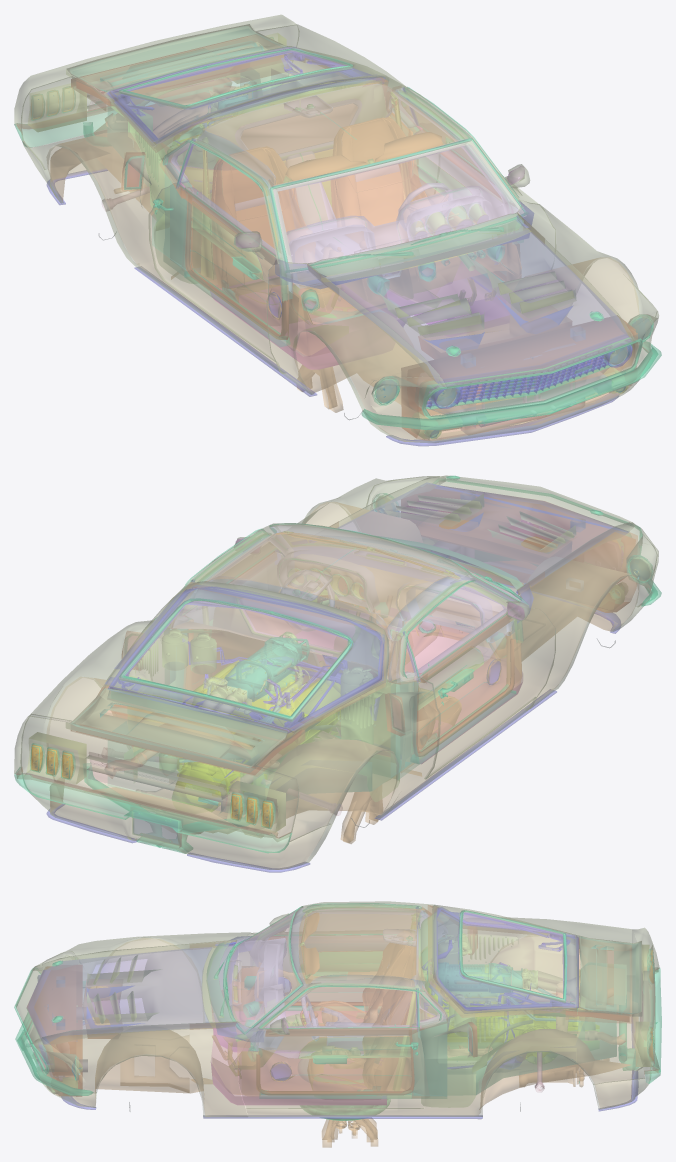
Rendered from ford_mustang_mach_40_rig.glb.
3 views of the same model, one above another, from view 1: azimuth 30°, elevation 25°; view 2: azimuth 150°, elevation 25°; view 3: azimuth 270°, elevation 25° (orthographic). The views are drawn at different scales.
Parts seen in each view (by area): view 1: Body_Mesh; view 2: Body_Mesh, Wheel_RL_Mesh; view 3: Body_Mesh, Wheel_FL_Mesh, Wheel_RL_Mesh.
Part boxes in pixels (box(x1,y1,x2,y2)): Body_Mesh: box(14, 15, 661, 445); Body_Mesh: box(14, 475, 661, 872); Wheel_RL_Mesh: box(341, 792, 378, 842); Body_Mesh: box(14, 901, 661, 1118); Wheel_FL_Mesh: box(311, 1107, 377, 1147); Wheel_RL_Mesh: box(325, 1111, 376, 1141).
Size of the model in its own units: 2.02 by 1.71 by 4.65.
